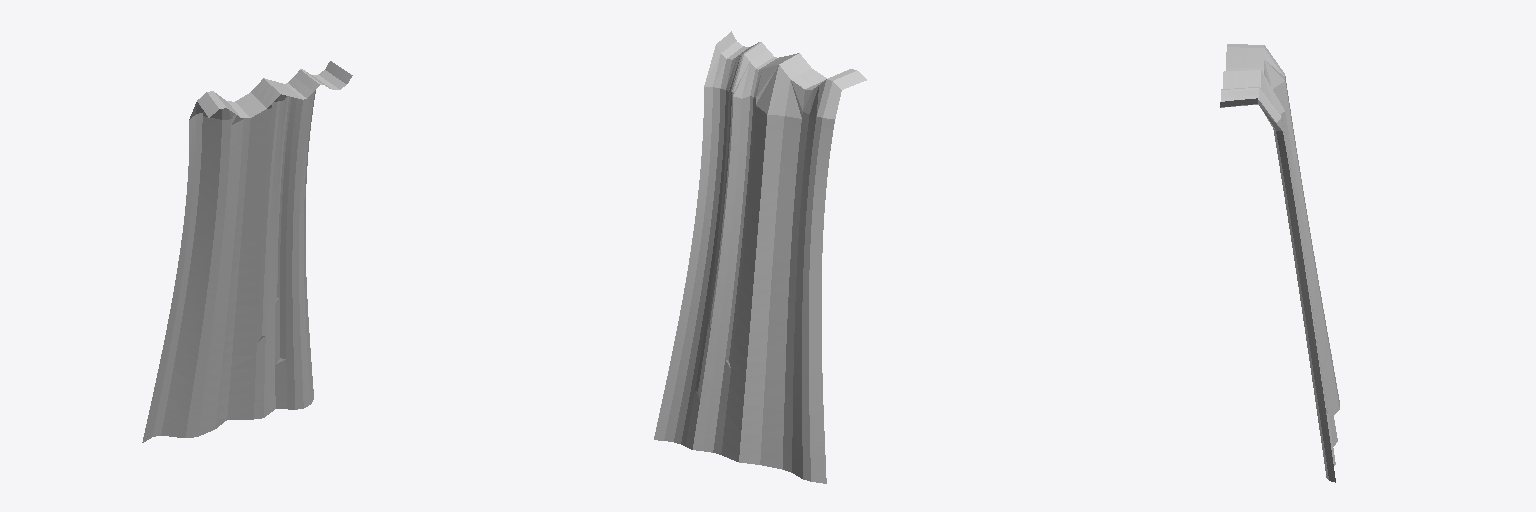
Rendered from fly.obj.
3 views of the same model, side by side, from view 1: azimuth 30°, elevation 25°; view 2: azimuth 150°, elevation 25°; view 3: azimuth 270°, elevation 25° (orthographic).
Parts seen in each view (by area): view 1: superman:nurbsToPoly1; view 2: superman:nurbsToPoly1; view 3: superman:nurbsToPoly1.
Part boxes in pixels (bbox=[...]): superman:nurbsToPoly1: bbox=[142, 61, 352, 442]; superman:nurbsToPoly1: bbox=[654, 31, 866, 483]; superman:nurbsToPoly1: bbox=[1220, 44, 1339, 482].
Bounding box in the file's own units: 4.08 × 8.5 × 2.48.